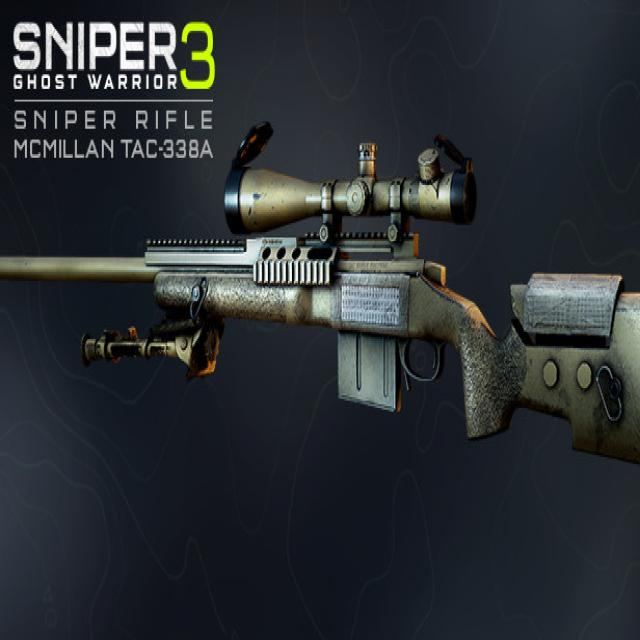Rifle: (0, 123, 640, 466)
